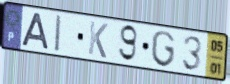3: (181, 35, 203, 72)
9: (116, 23, 140, 64)
A: (20, 12, 51, 52)
G: (150, 29, 177, 70)
I: (54, 13, 64, 55)
K: (87, 19, 110, 60)
